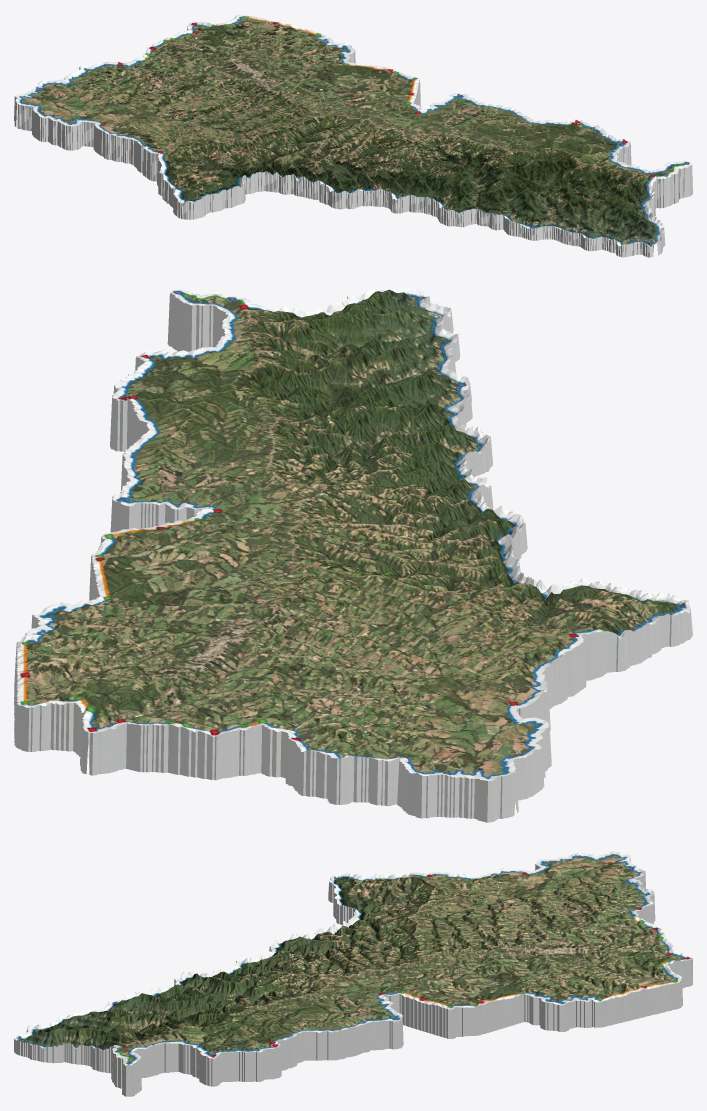
3 renders of one model, top to bottom at view 1: azimuth 30°, elevation 25°; view 2: azimuth 150°, elevation 25°; view 3: azimuth 270°, elevation 25°, orthographic. The views are drawn at different scales.
Size of the model in its own units: 1 by 0.0671 by 1.3.
1 material, 1 textured.
